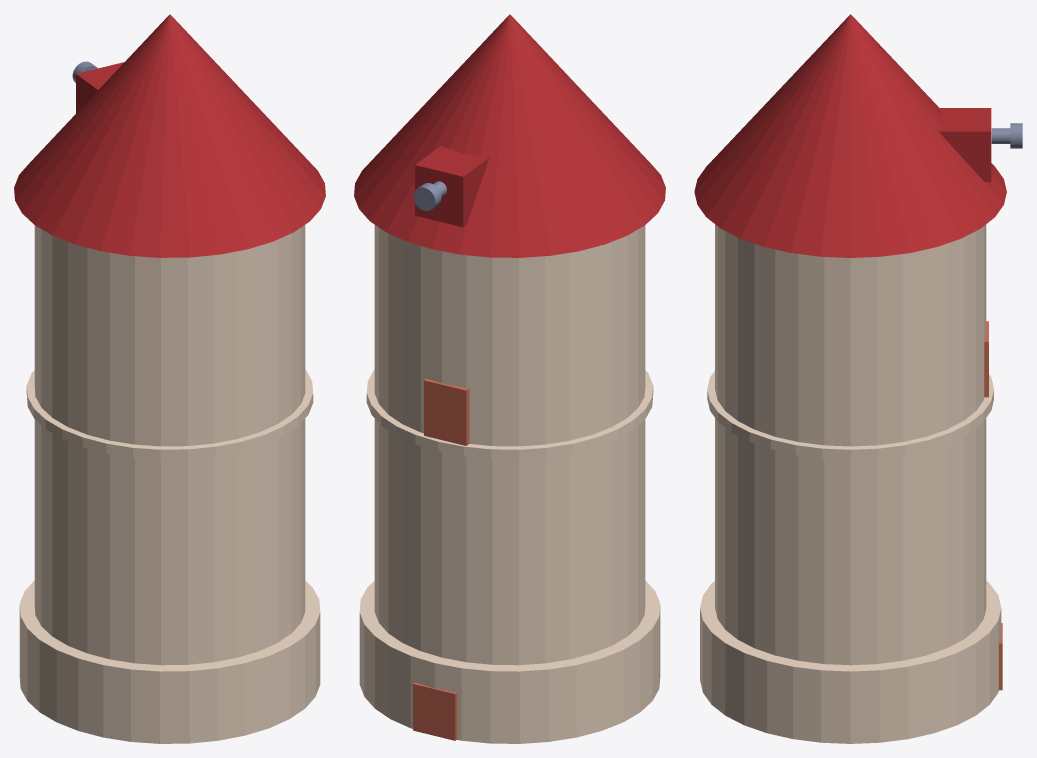
File: windmill.gltf
3 renders of one model, left to right at view 1: azimuth 30°, elevation 25°; view 2: azimuth 150°, elevation 25°; view 3: azimuth 270°, elevation 25°, orthographic.
Parts seen in each view (by area): view 1: 圓柱體.001, 圓錐體, 圓柱體, 圓柱體.002, 立方體; view 2: 圓柱體.001, 圓錐體, 圓柱體, 圓柱體.002, 立方體, 立方體.001, 立方體.002, 圓柱體.005; view 3: 圓柱體.001, 圓錐體, 圓柱體, 圓柱體.002, 立方體.
Boxes of the visible parts, left/top/right/bottom form: 圓柱體.001: left=34, top=225, right=305, bottom=665; 圓錐體: left=14, top=14, right=325, bottom=257; 圓柱體: left=19, top=580, right=320, bottom=743; 圓柱體.002: left=26, top=369, right=313, bottom=459; 立方體: left=76, top=62, right=124, bottom=113; 圓柱體.001: left=374, top=225, right=645, bottom=665; 圓錐體: left=354, top=14, right=665, bottom=257; 圓柱體: left=359, top=580, right=660, bottom=743; 圓柱體.002: left=366, top=369, right=653, bottom=459; 立方體: left=415, top=146, right=489, bottom=227; 立方體.001: left=424, top=378, right=469, bottom=445; 立方體.002: left=413, top=682, right=457, bottom=740; 圓柱體.005: left=413, top=183, right=441, bottom=210; 圓柱體.001: left=715, top=224, right=986, bottom=665; 圓錐體: left=694, top=14, right=1006, bottom=257; 圓柱體: left=700, top=581, right=1001, bottom=743; 圓柱體.002: left=707, top=371, right=993, bottom=459; 立方體: left=938, top=108, right=991, bottom=182.
Bounding box in the file's own units: 6.73 × 15.83 × 7.07.
